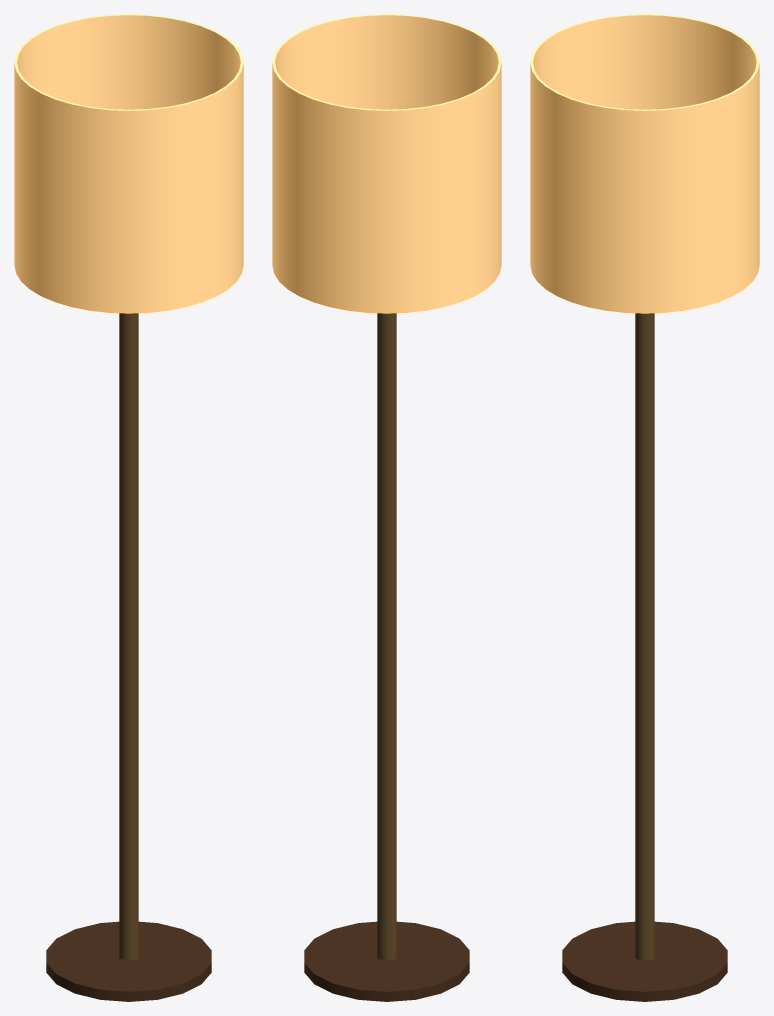
File: Floor_Lamp_ShortRoundBase_RoundShade.fbx
3 views of the same model, side by side, from view 1: azimuth 30°, elevation 25°; view 2: azimuth 150°, elevation 25°; view 3: azimuth 270°, elevation 25° (orthographic).
Visible parts, largest first — view 1: Floor_Lamp_ShortRoundBase_RoundShade; view 2: Floor_Lamp_ShortRoundBase_RoundShade; view 3: Floor_Lamp_ShortRoundBase_RoundShade.
Boxes of the visible parts, <box> form: Floor_Lamp_ShortRoundBase_RoundShade: <box>14,14,243,1001</box>; Floor_Lamp_ShortRoundBase_RoundShade: <box>272,14,501,1001</box>; Floor_Lamp_ShortRoundBase_RoundShade: <box>530,14,759,1001</box>.
Size of the model in its own units: 41 by 178 by 41.
